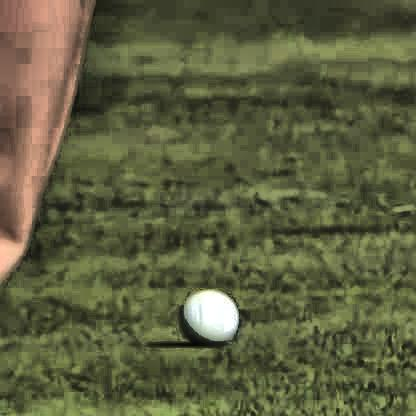golfball: (177, 288, 236, 344)
